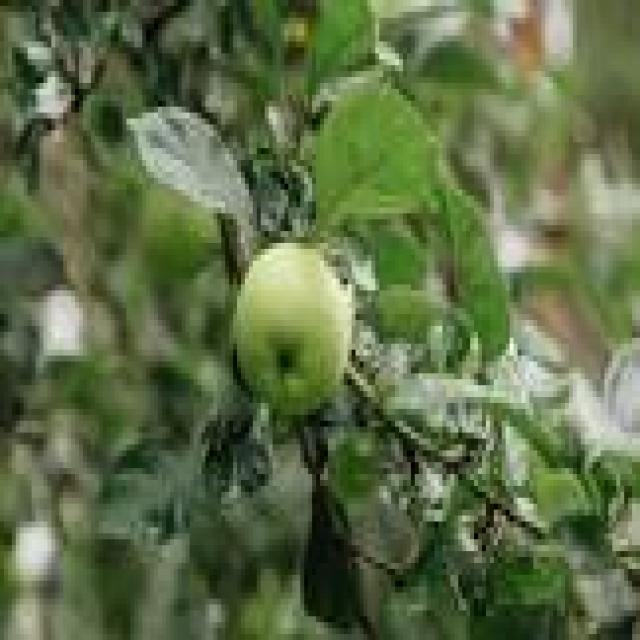apple: (233, 243, 352, 409)
